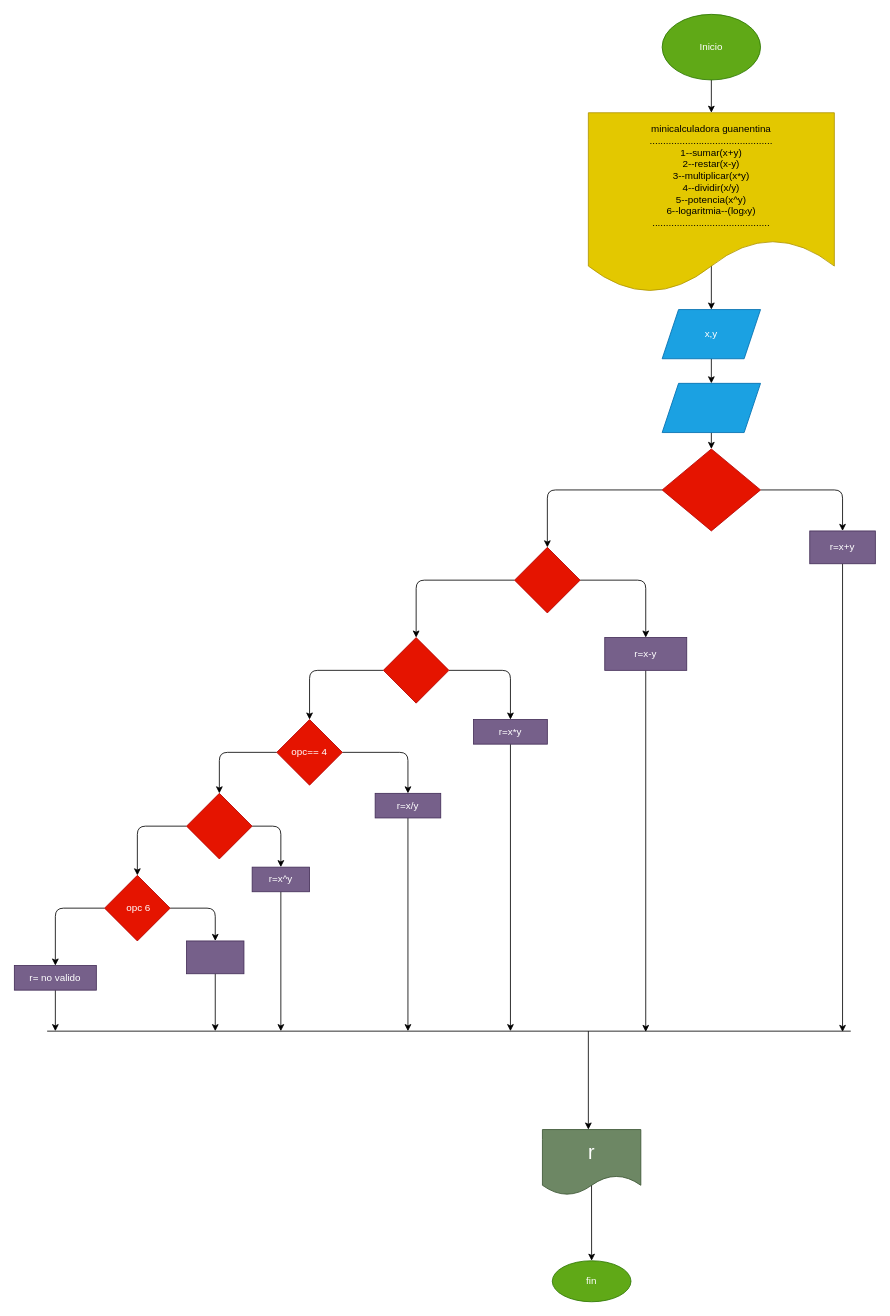
Image size: 890x1316. Some labels were removed from this diagram. The shapes that lost their labels are listed below. From the top down, each one's centre as x and y in pixels, then its label:
[711,408]: opc
[711,489]: opc== 1
[547,580]: opc== 2
[416,670]: opc== 3
[219,826]: opc== 5
[215,957]: r=log x y
